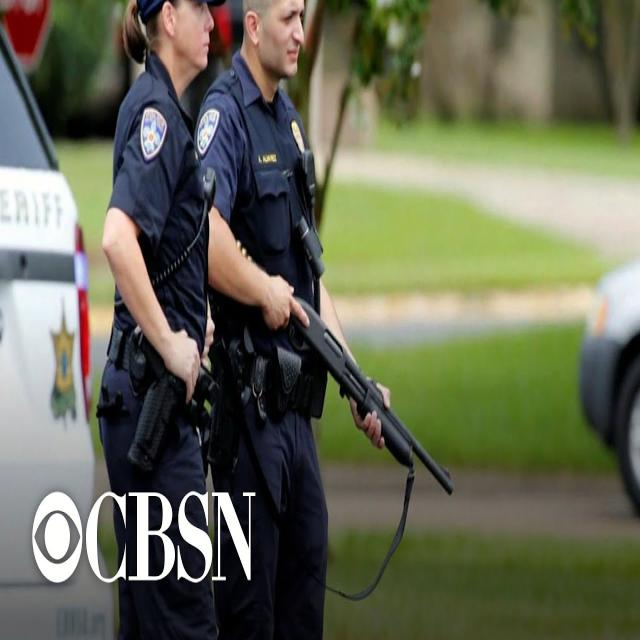police: (202, 0, 464, 609), (96, 0, 255, 547)
